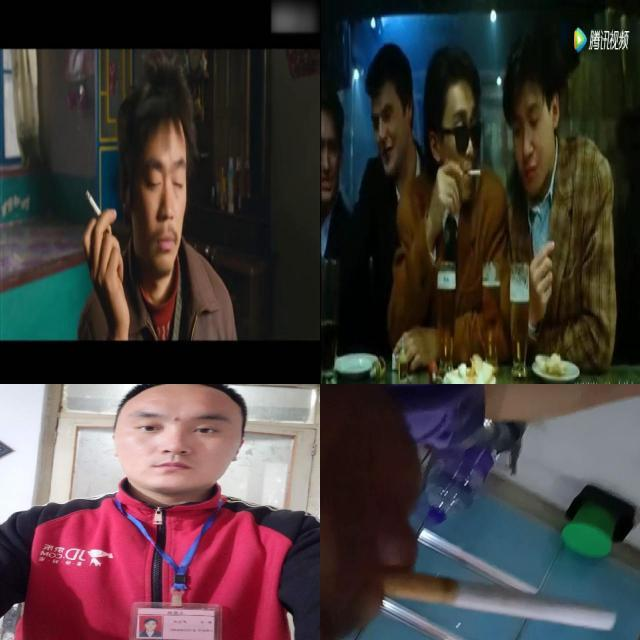cigarette: (383, 571, 617, 631), (86, 190, 112, 234), (464, 156, 484, 180)
